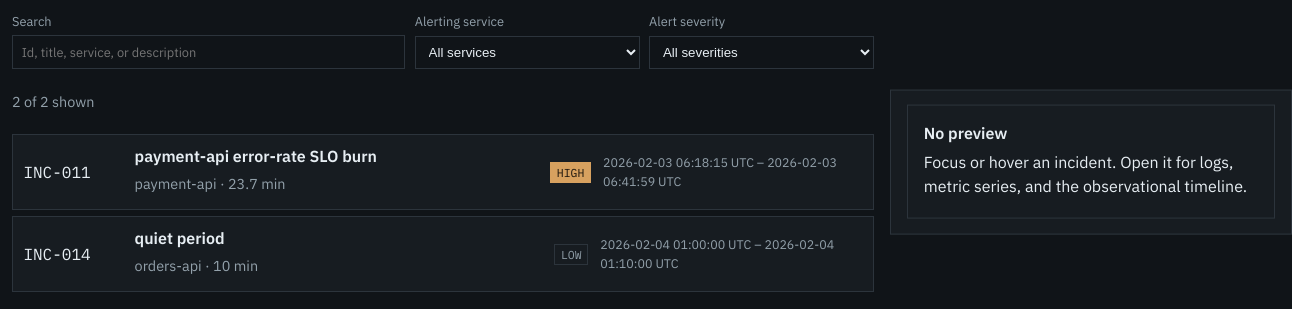
it: incident explorer › filters the catalog by service and search text
The width and height of the screenshot is (1292, 309).
Check: the link "INC-014" is shown, box 12,216 -> 874,292
Select "orders-api" in the dropdown labelled "Alerting service": x=527, y=53 415,36 -> 640,69
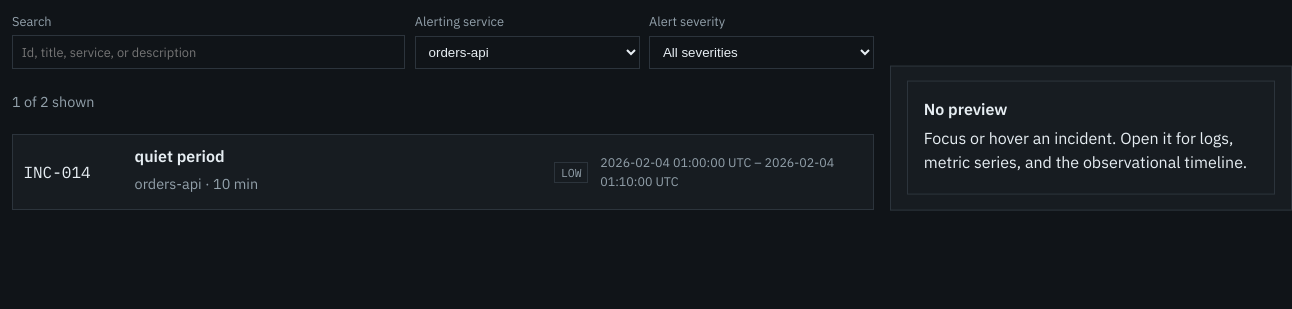
Check: the link "INC-011" is gone
Select "All services" in the dropdown labelled "Alerting service": x=527, y=53 415,36 -> 640,69
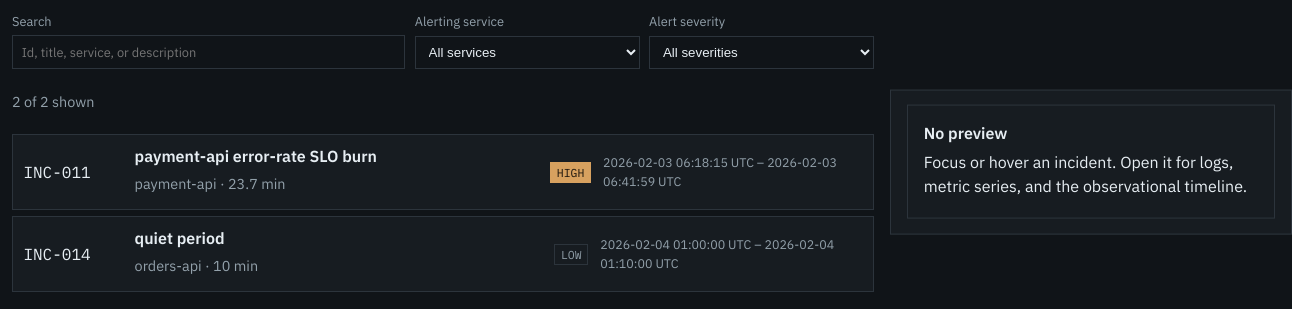
In the field labelled "Search": x=209, y=52 12,35 -> 405,69, type "quiet"
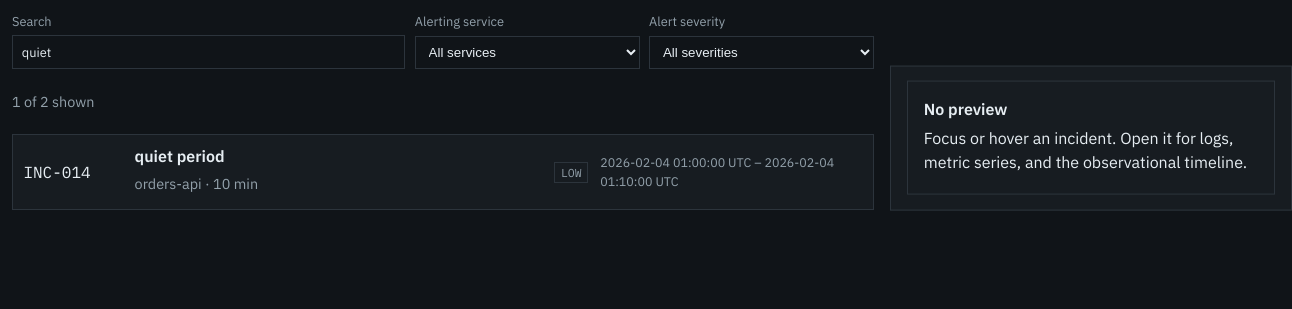
Check: the link "INC-014" is shown, box 12,134 -> 874,210
Check: the link "INC-011" is gone
